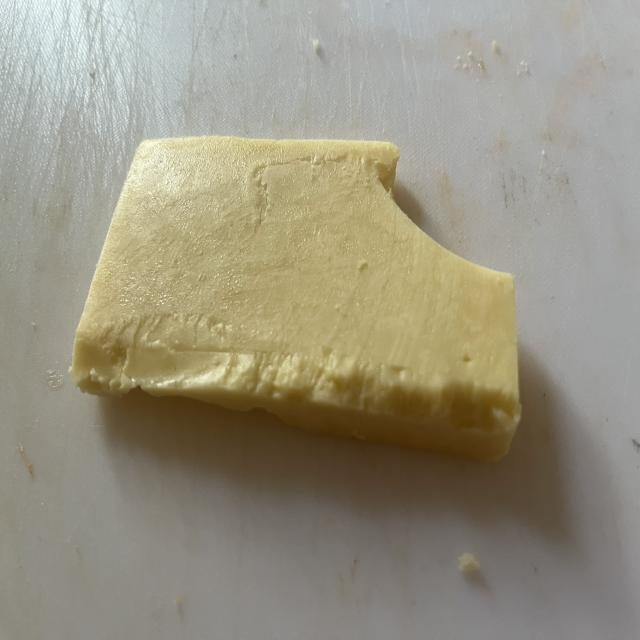cheese: (70, 137, 520, 460)
